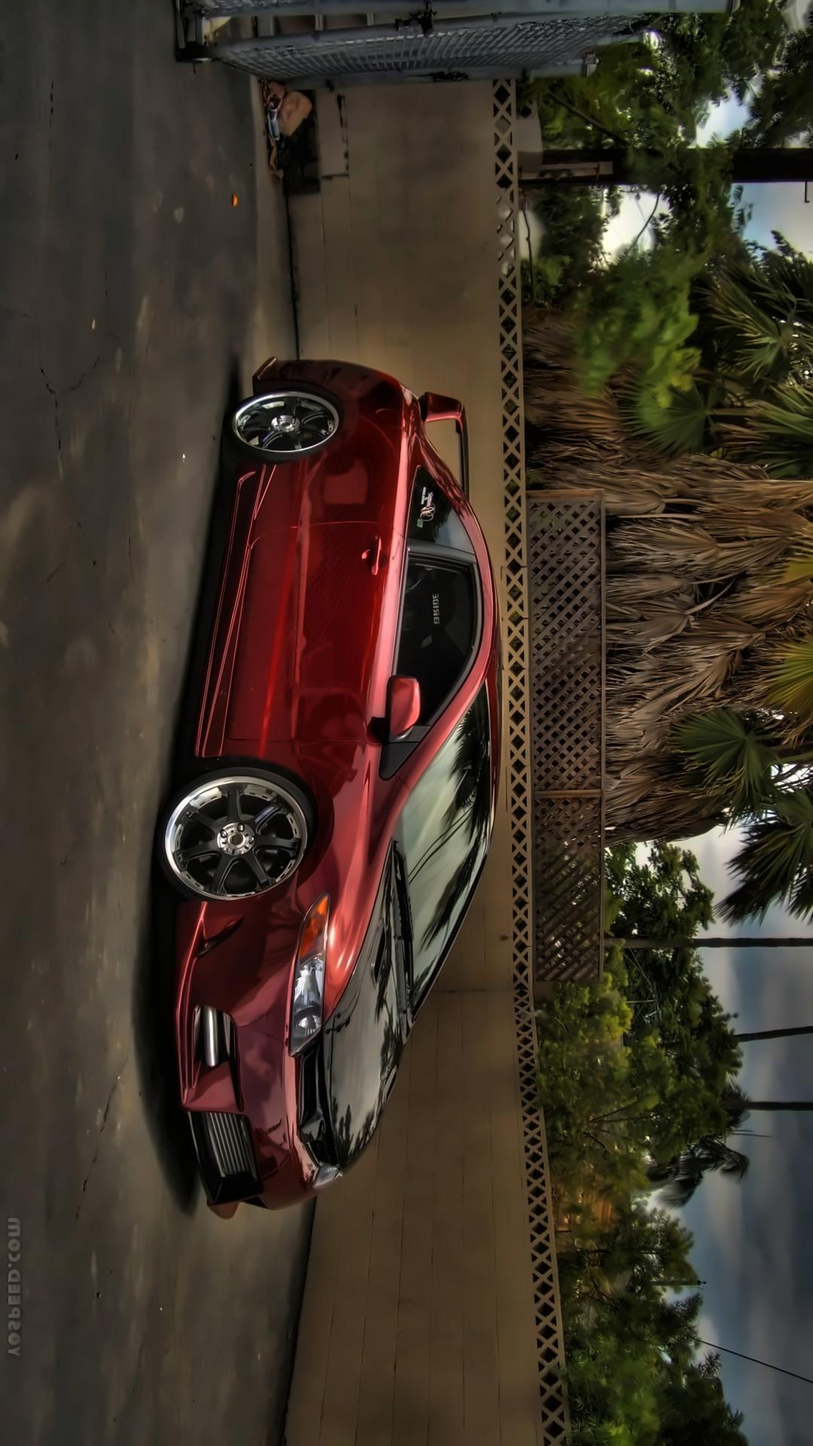Car hood: (310, 842, 417, 1189)
Driver-s door - -F-R-: (188, 511, 496, 773)
Fender - -F-R-: (214, 733, 396, 1005)
Fender - -R-R-: (260, 369, 463, 529)
Front bumper: (164, 887, 322, 1218)
Headlight - -R-: (283, 895, 336, 1062)
Rear bumper: (252, 350, 377, 402)
Side bumper - -R-: (183, 450, 286, 764)
Side mirror - -R-: (368, 667, 419, 744)
